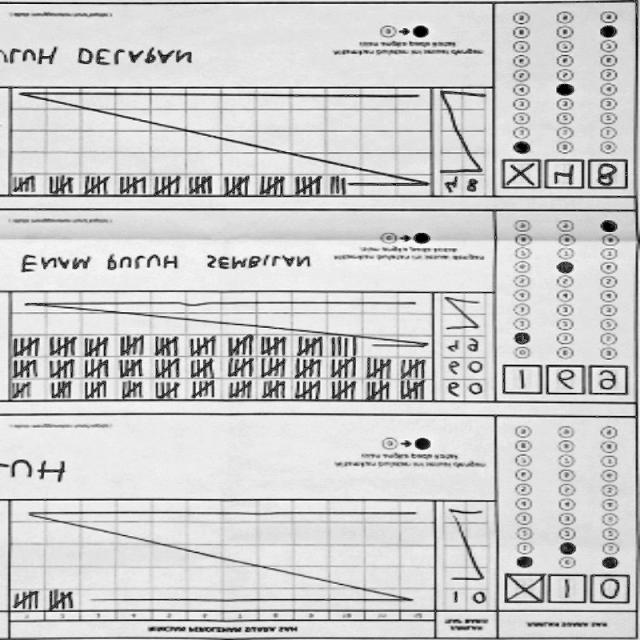Suara: (497, 156, 632, 194), (500, 570, 634, 608), (498, 364, 632, 402)
